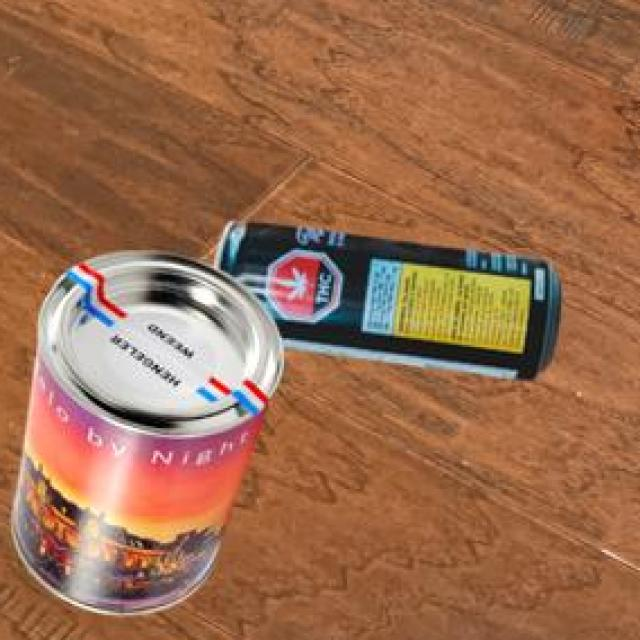logam: (8, 249, 281, 612), (211, 217, 558, 377)
